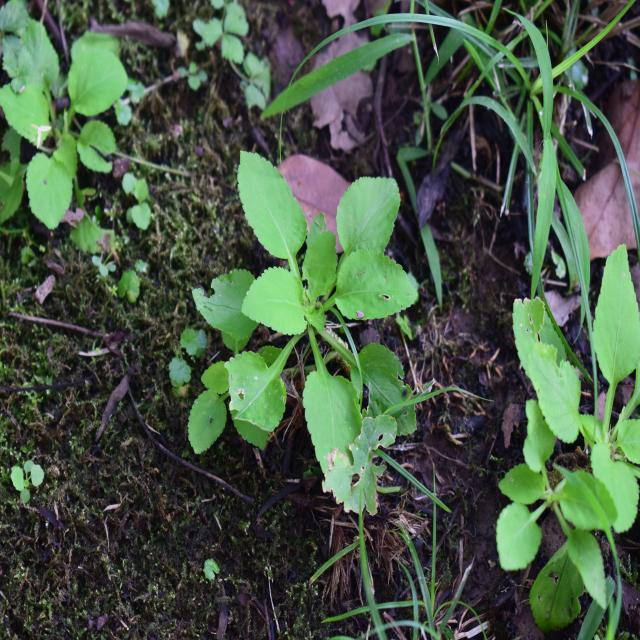Viola: (218, 168, 431, 459), (0, 36, 145, 235)
